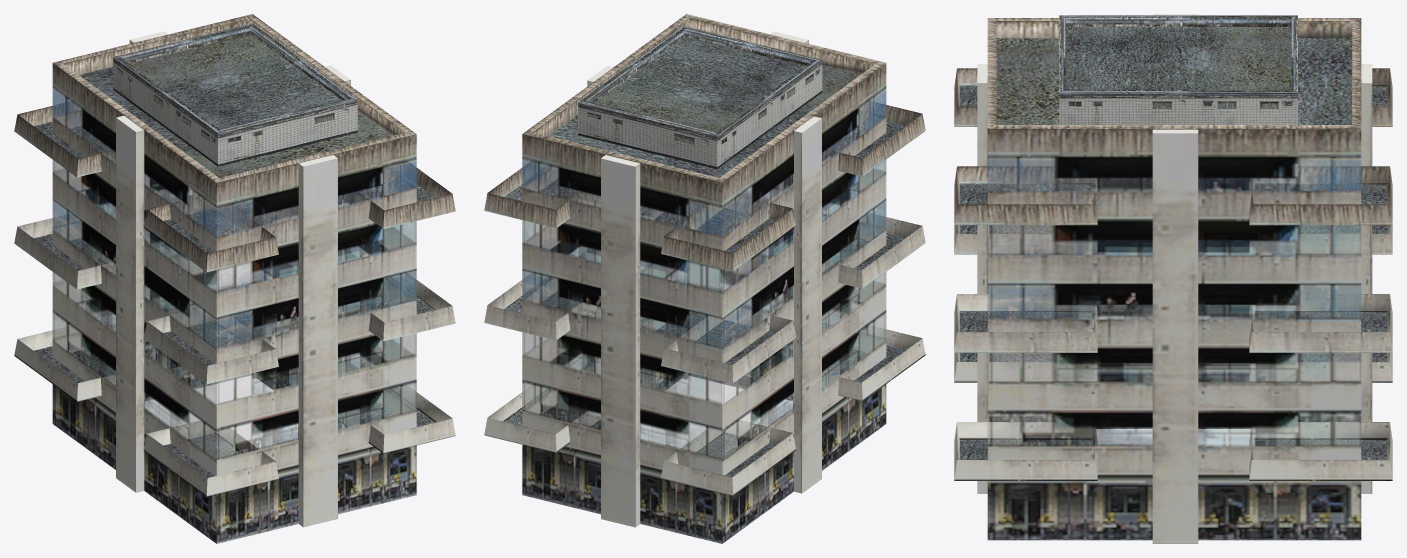
File: Civilian - Civilian Building - Mogadishu Highrise 01 - CBMogdis01.glb
The picture shows the model from 3 angles, left to right: view 1: azimuth 30°, elevation 25°; view 2: azimuth 150°, elevation 25°; view 3: azimuth 270°, elevation 25°; orthographic projection. The views are drawn at different scales.
Visible parts, largest first — view 1: CBMOGDIS01; view 2: CBMOGDIS01; view 3: CBMOGDIS01.
Part boxes in pixels (box(x1,y1,x2,y2)): CBMOGDIS01: box(14, 14, 455, 543); CBMOGDIS01: box(484, 14, 925, 543); CBMOGDIS01: box(954, 14, 1392, 543).
Size of the model in its own units: 54 by 78.66 by 72.25.
Materials: 1 (1 with a texture image).
